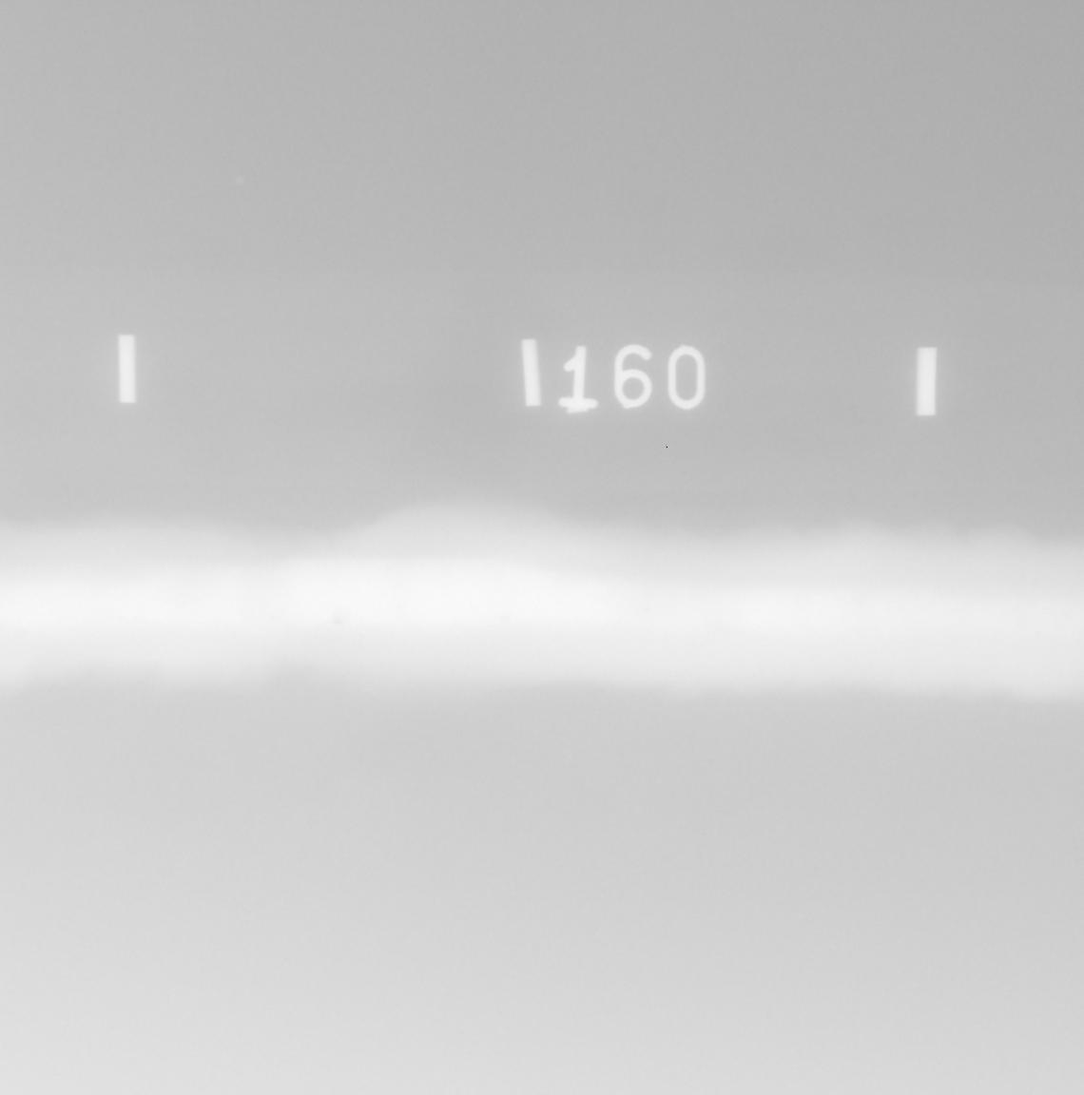Inclusion: (499, 613, 510, 621)
Pore/Porosity: (331, 616, 342, 625), (455, 625, 461, 628)
